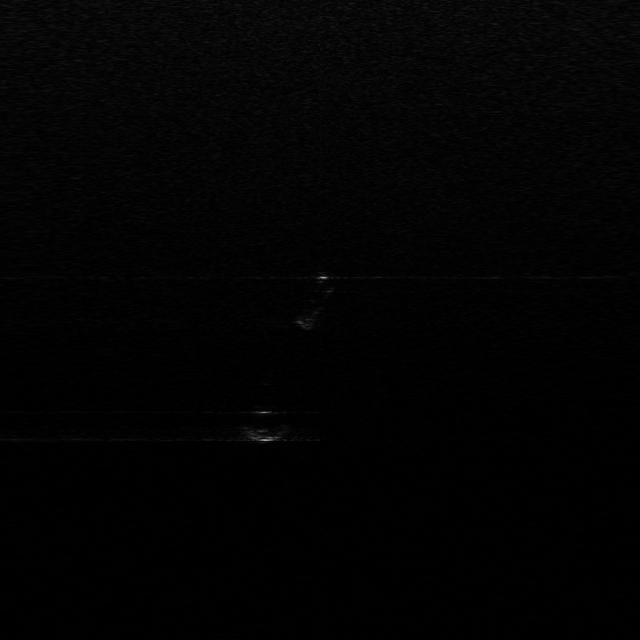ball: (236, 408, 288, 445)
tyre: (292, 271, 336, 330)
